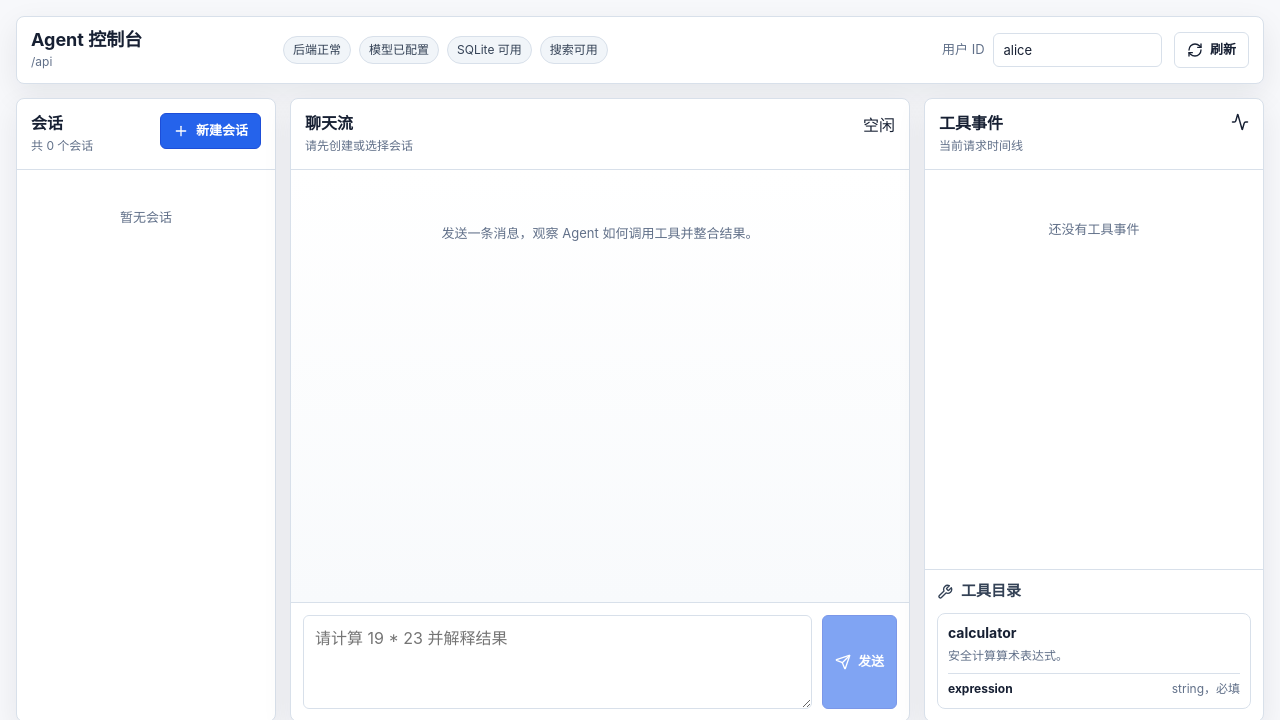
Scenario: Agent 控制台 › 创建会话后自动选中新会话
Click the button "新建会话" at (210, 131), box [160,113,261,149]
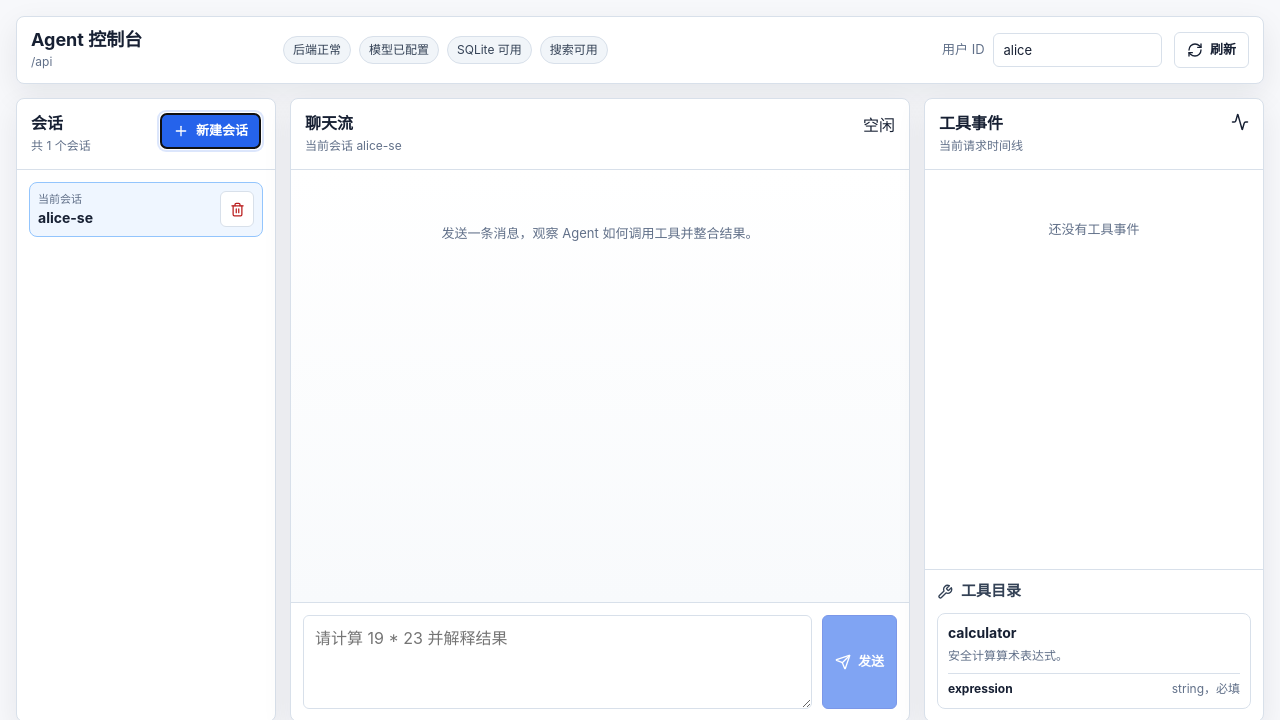
Expected: the button "发送" is disabled, [822,615,897,709]
Now the text "当前会话 alice-se" is shown, box [305,137,402,155]
